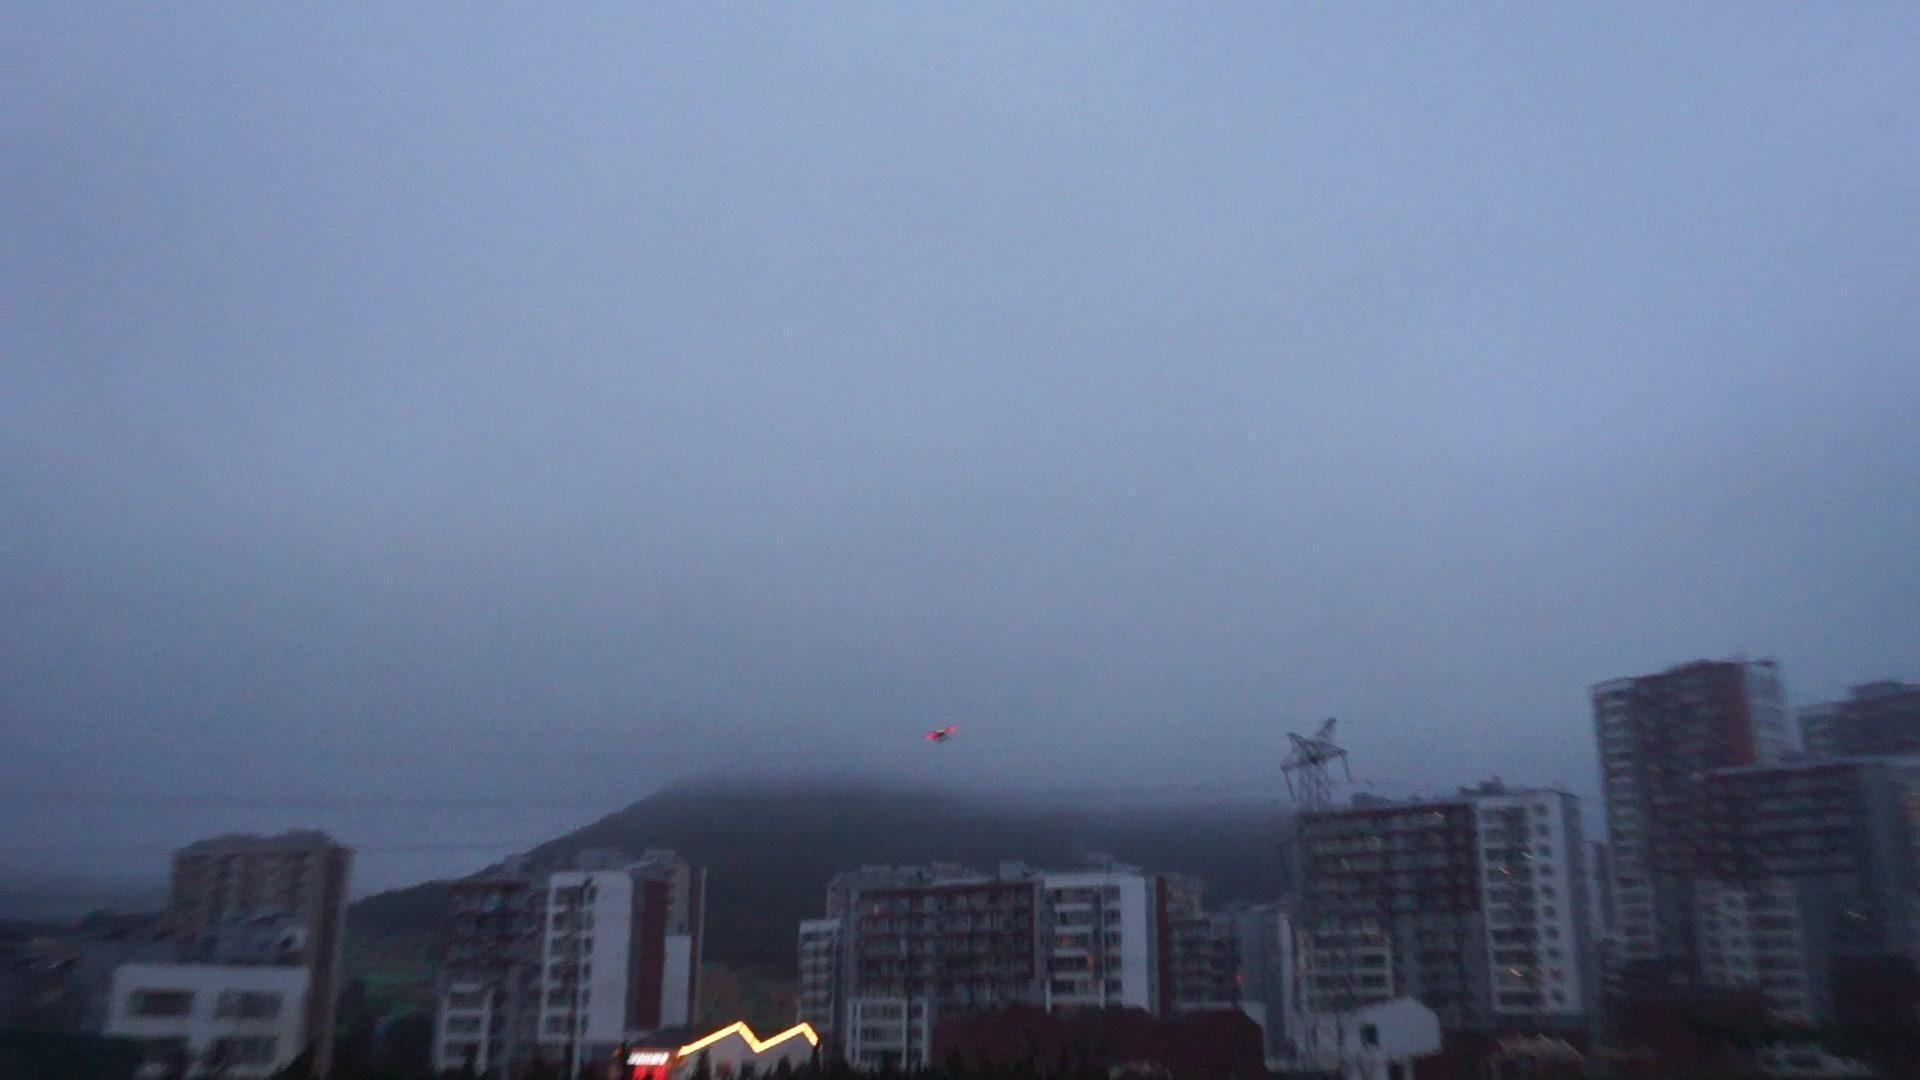UAV: (924, 725, 961, 745)
